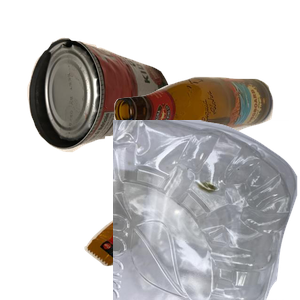glass: (111, 74, 300, 204)
metal: (25, 35, 189, 180)
plastic: (113, 120, 300, 300)
trash: (82, 151, 260, 300)
